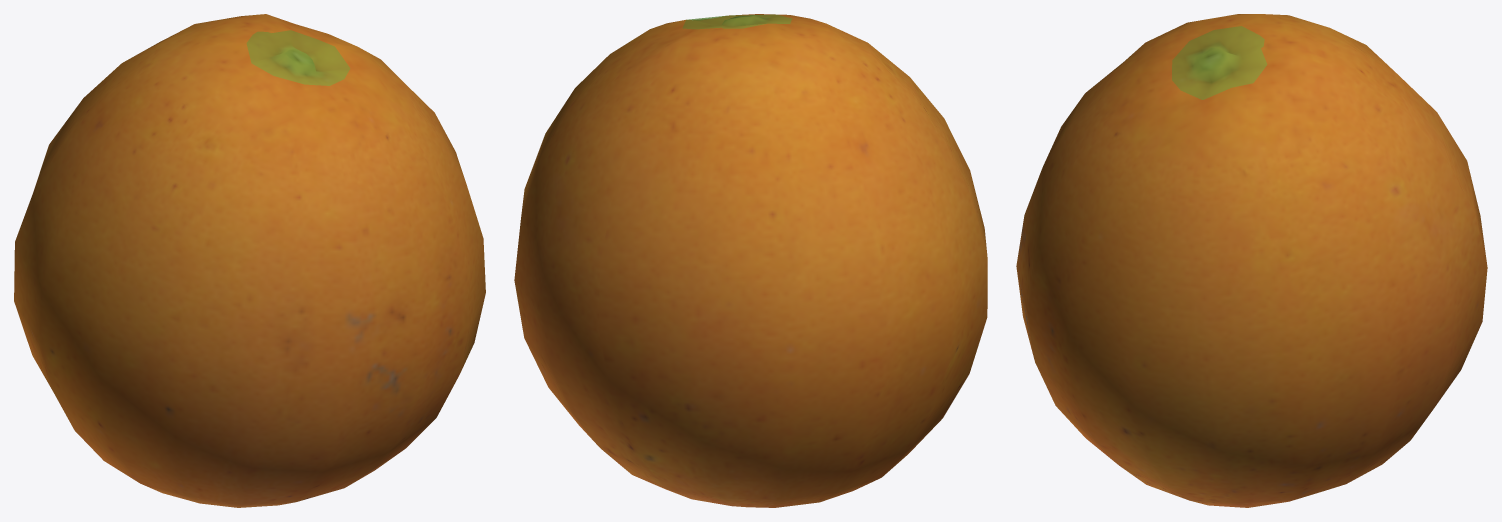
The model's file is pg_Orange_02.fbx.
3 renders of one model, left to right at view 1: azimuth 30°, elevation 25°; view 2: azimuth 150°, elevation 25°; view 3: azimuth 270°, elevation 25°, orthographic. The views are drawn at different scales.
Parts seen in each view (by area): view 1: pg_Orange_02_a_LOD0, pg_Orange_02_a_col; view 2: pg_Orange_02_a_LOD0, pg_Orange_02_a_col; view 3: pg_Orange_02_a_LOD0, pg_Orange_02_a_col.
Boxes of the visible parts, x1,y1,x2,y2 form: pg_Orange_02_a_LOD0: (14, 14, 485, 507); pg_Orange_02_a_col: (246, 30, 350, 85); pg_Orange_02_a_LOD0: (514, 14, 987, 507); pg_Orange_02_a_col: (682, 14, 791, 502); pg_Orange_02_a_LOD0: (1016, 14, 1487, 507); pg_Orange_02_a_col: (1172, 26, 1267, 99).
Size of what is drawn, in the model's own units: 8.69 by 9.17 by 8.66.
Materials: 2 (1 with a texture image).
